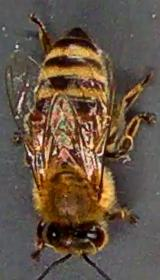varroa_mite: (26, 102, 54, 128)
